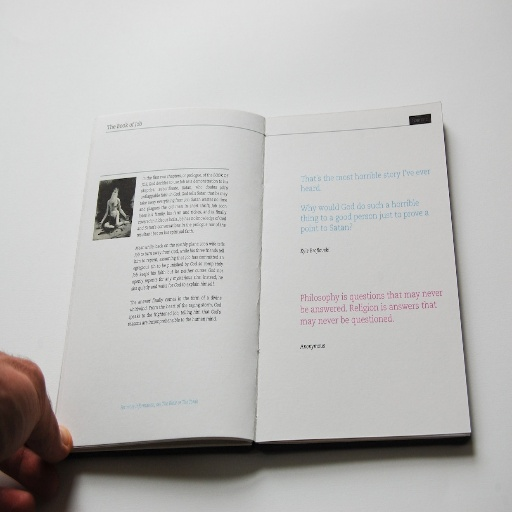hand: (0, 354, 71, 486)
